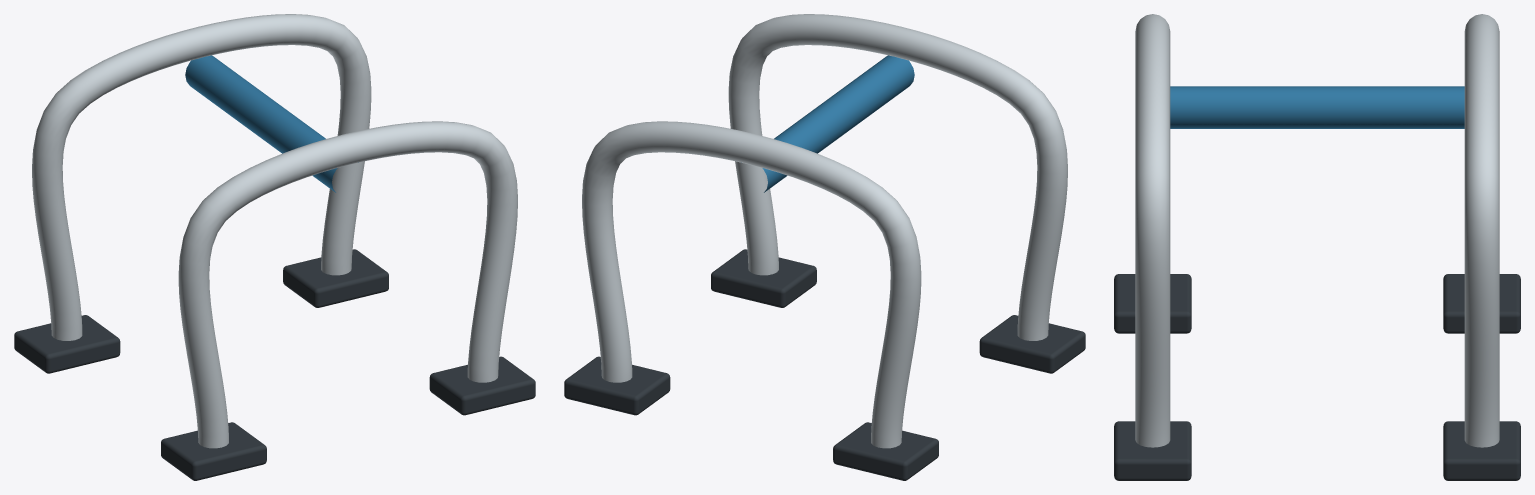
Rendered from curling-club-and-ice-maintenance-delivery-stabilizer-a7b2599a__31270.glb.
The picture shows the model from 3 angles, left to right: view 1: azimuth 30°, elevation 25°; view 2: azimuth 150°, elevation 25°; view 3: azimuth 270°, elevation 25°; orthographic projection. The views are drawn at different scales.
Parts seen in each view (by area): view 1: delivery-stabilizer; view 2: delivery-stabilizer; view 3: delivery-stabilizer.
Boxes of the visible parts, <box> form: delivery-stabilizer: <box>14,14,535,480</box>; delivery-stabilizer: <box>564,14,1085,480</box>; delivery-stabilizer: <box>1114,14,1520,480</box>.
Bounding box in the file's own units: 0.46 × 0.3755 × 0.42.
